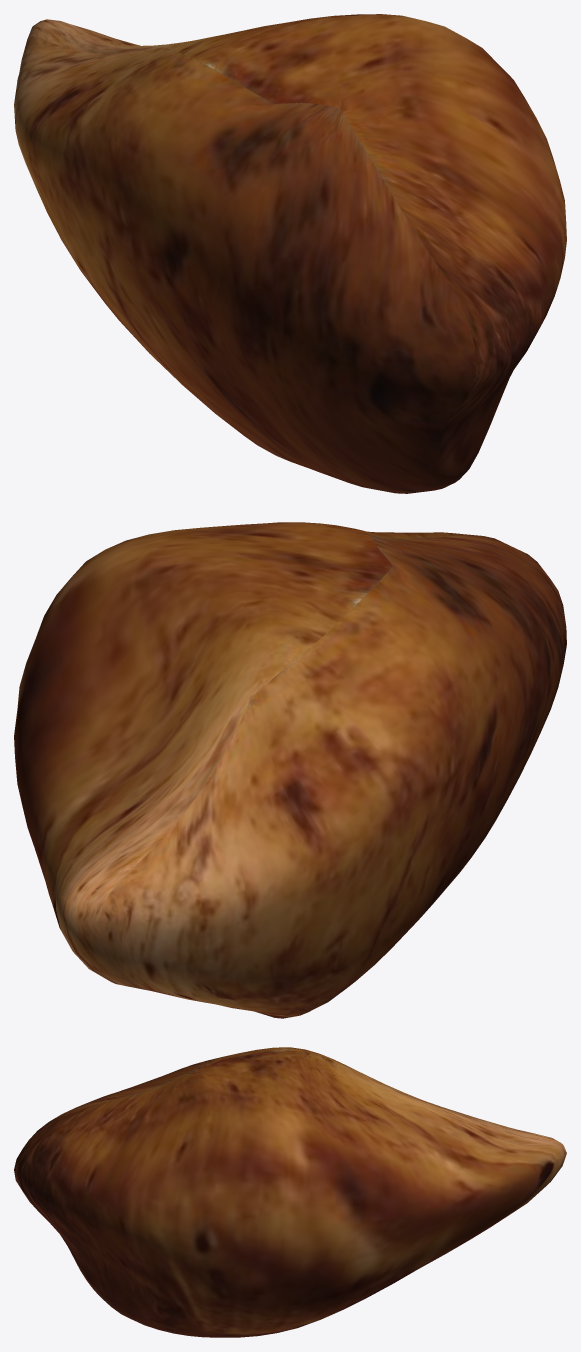
Rendered from yam.obj.
The picture shows the model from 3 angles, top to bottom: view 1: azimuth 30°, elevation 25°; view 2: azimuth 150°, elevation 25°; view 3: azimuth 270°, elevation 25°; orthographic projection. The views are drawn at different scales.
Visible parts, largest first — view 1: Plane.001; view 2: Plane.001; view 3: Plane.001.
Part boxes in pixels (x1,y1,x2,y2): Plane.001: (14, 14, 566, 493); Plane.001: (14, 522, 566, 1018); Plane.001: (14, 1047, 566, 1337).
Size of the model in its own units: 2.32 by 2.35 by 4.51.
Materials: 1 (1 with a texture image).
